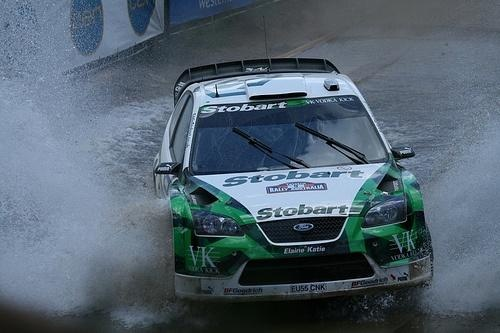car: (152, 52, 439, 310)
